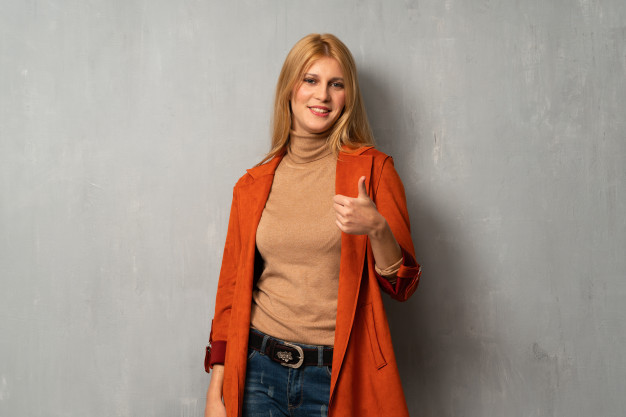thumbsup: (333, 175, 367, 234)
